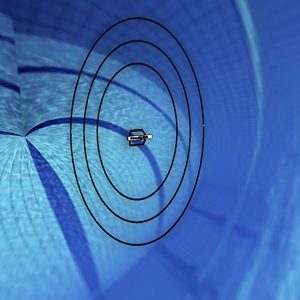circle: (65, 7, 223, 256)
submarine: (121, 119, 159, 154)
